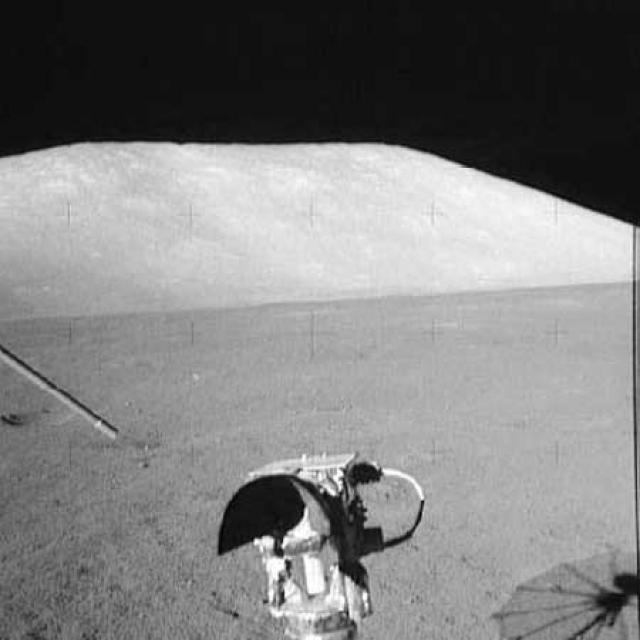artifact: (209, 445, 427, 639), (0, 341, 127, 448)
crater: (1, 394, 75, 434)
